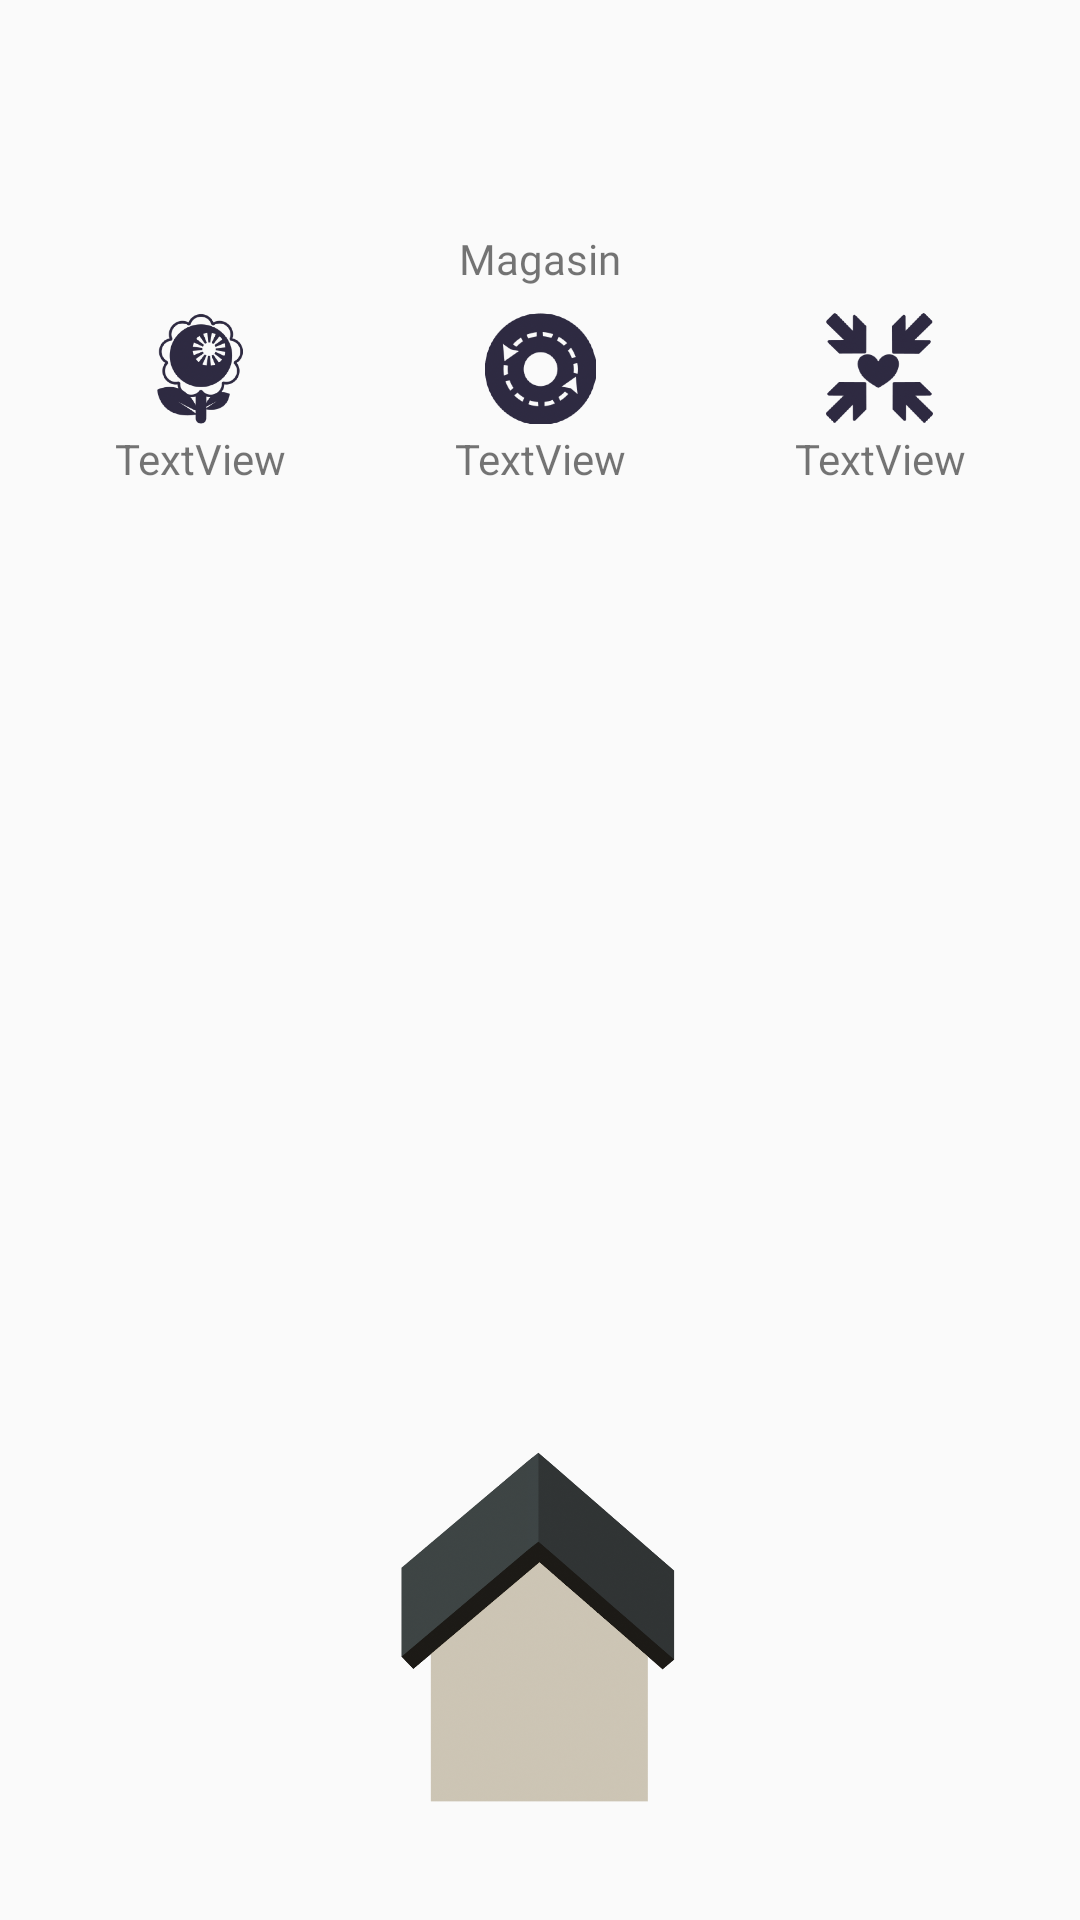

Screen size 1080*1920. Icon name, then its center in pixels as (x=x, y=y):
environment city: (x=200, y=369)
fluid city: (x=540, y=368)
impact on city: (x=879, y=368)
maison: (x=537, y=1627)
